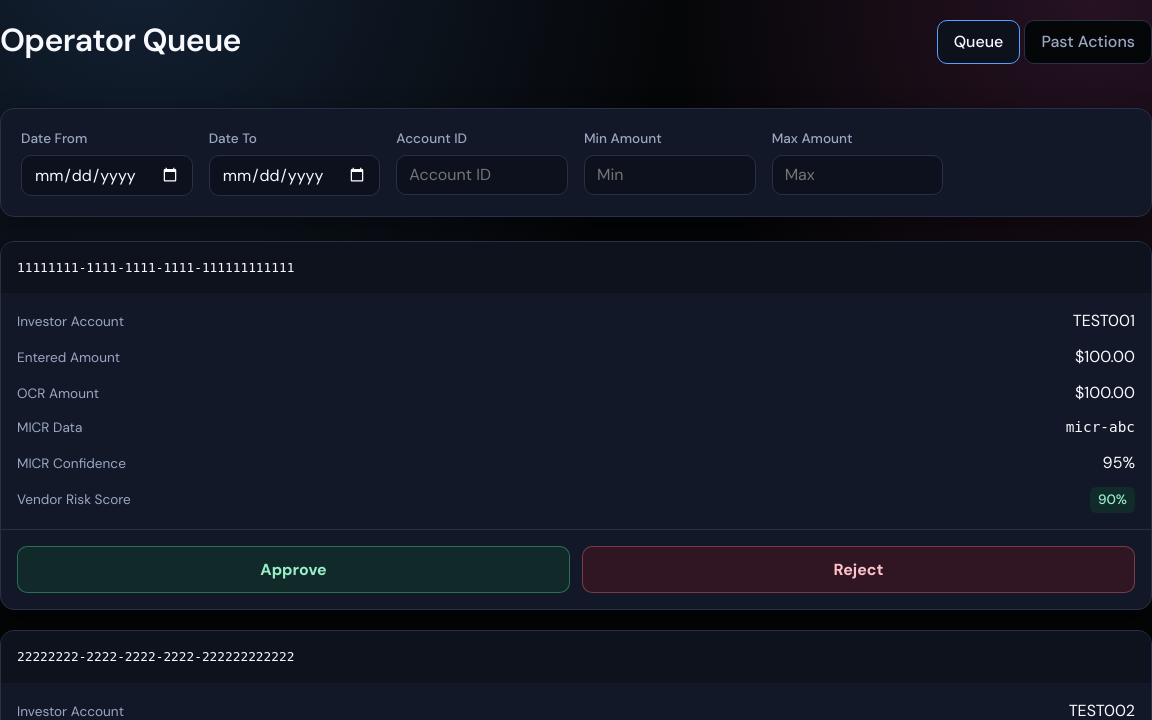
Scenario: OperatorView › Past Actions tab shows past queue actions
Click the tab "Past Actions": (1088, 42) [1024,20,1151,64]
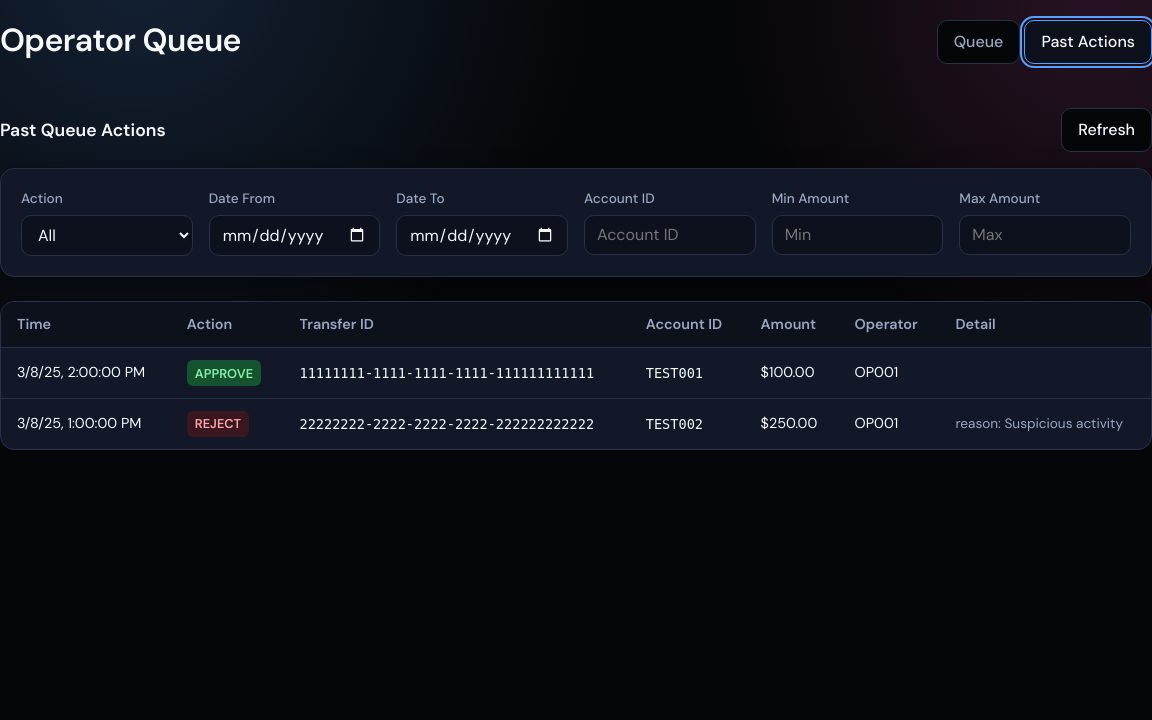
Expected: the text "APPROVE" is shown, [187,360,261,386]
Now the heading "Past Queue Actions" is shown, box [0,117,166,143]
Now the text "reason: Suspicious activity" is shown, box [956,414,1135,434]
